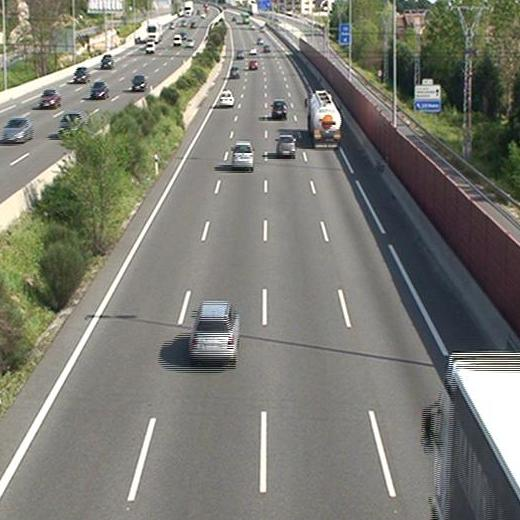car: (190, 303, 239, 361), (232, 142, 254, 168), (276, 135, 295, 156), (271, 100, 287, 119), (219, 91, 234, 105), (230, 66, 240, 79), (248, 60, 258, 71), (237, 49, 245, 58)
tank-truck: (305, 92, 341, 148)
